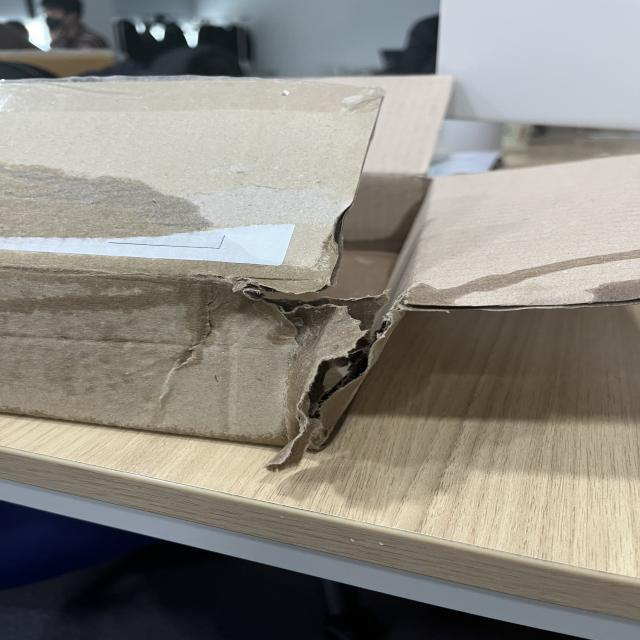wet: (2, 154, 213, 241)
